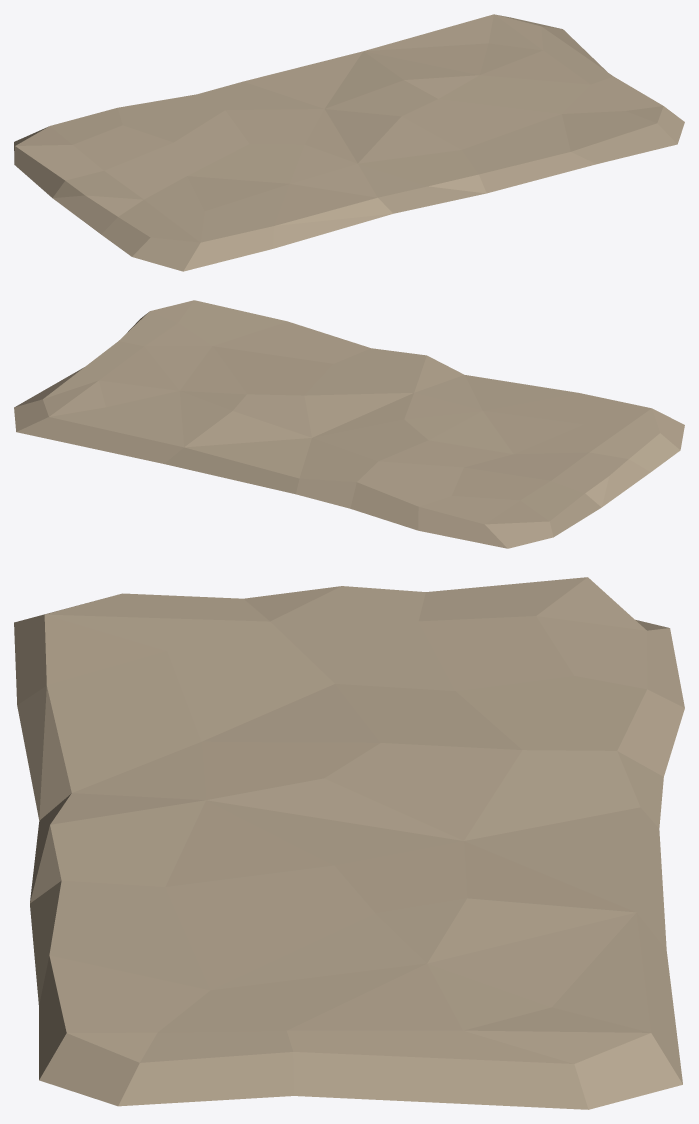
Rendered from SM_Prop_BathroomRug_01.fbx.
3 renders of one model, top to bottom at view 1: azimuth 30°, elevation 25°; view 2: azimuth 150°, elevation 25°; view 3: azimuth 270°, elevation 25°, orthographic. The views are drawn at different scales.
Parts seen in each view (by area): view 1: SM_Prop_BathroomRug_01; view 2: SM_Prop_BathroomRug_01; view 3: SM_Prop_BathroomRug_01.
Part boxes in pixels (bbox=[...]): SM_Prop_BathroomRug_01: bbox=[14, 14, 684, 271]; SM_Prop_BathroomRug_01: bbox=[14, 300, 684, 548]; SM_Prop_BathroomRug_01: bbox=[14, 577, 684, 1109].
Bounding box in the file's own units: 166 × 5.56 × 92.56.
